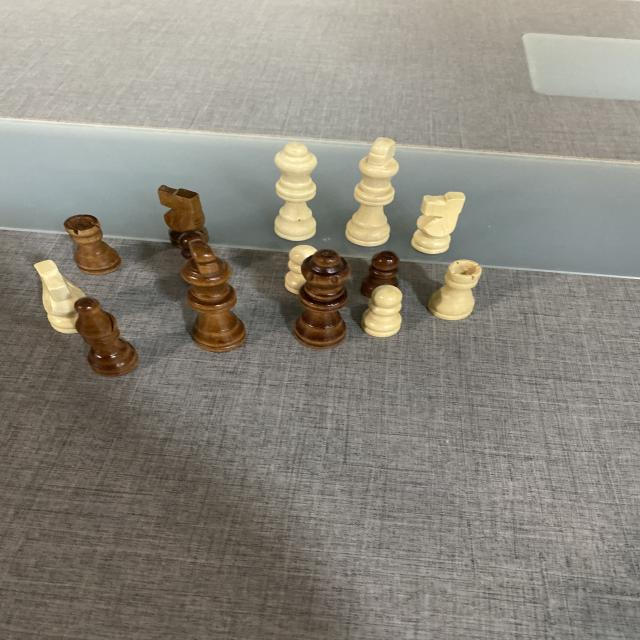Black-Bishop: (76, 296, 139, 378)
Black-King: (178, 238, 249, 353)
Black-Knight: (158, 184, 204, 251)
Black-Pawn: (361, 250, 401, 296), (178, 228, 211, 256)
Black-Queen: (291, 248, 353, 350)
Black-Rook: (62, 213, 124, 276)
White-King: (344, 136, 402, 248)
White-Knight: (412, 190, 469, 254), (34, 260, 80, 335)
White-Pawn: (360, 285, 404, 339), (284, 245, 314, 295)
White-Queen: (272, 141, 321, 242)
White-Rook: (426, 259, 484, 322)
